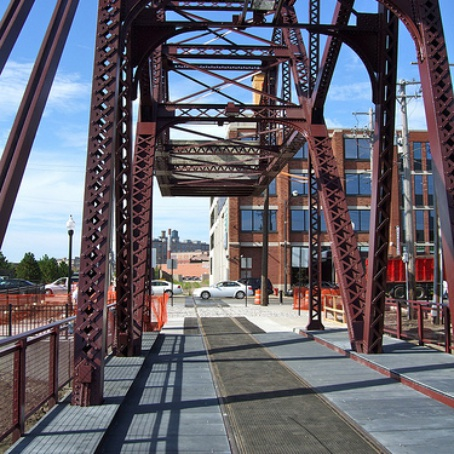building: (214, 131, 441, 282)
car: (191, 275, 254, 301), (145, 272, 182, 299)
sky: (4, 6, 204, 249)
